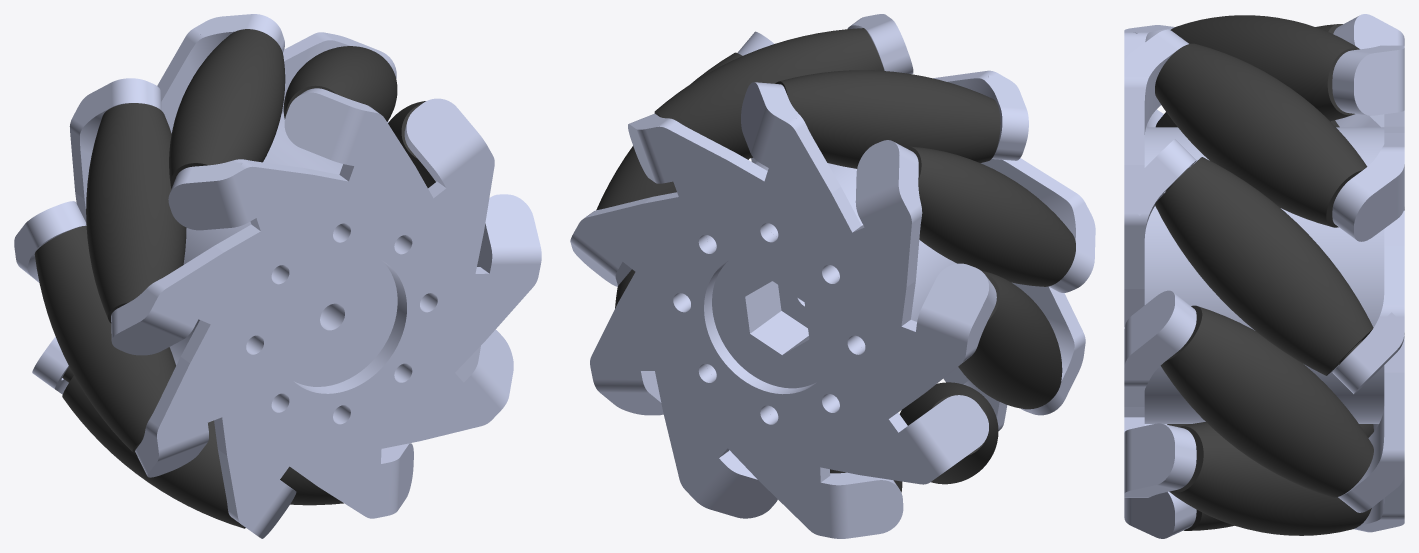
3 renders of one model, left to right at view 1: azimuth 30°, elevation 25°; view 2: azimuth 150°, elevation 25°; view 3: azimuth 270°, elevation 25°, orthographic. The views are drawn at different scales.
Parts seen in each view (by area): view 1: Part2_2; view 2: Part2_2; view 3: Part2_2.
Boxes of the visible parts, x1,y1,x2,y2 form: Part2_2: (14, 14, 541, 538); Part2_2: (570, 14, 1095, 538); Part2_2: (1124, 14, 1404, 538).
Bounding box in the file's own units: 0.0778 × 0.0415 × 0.0777.
